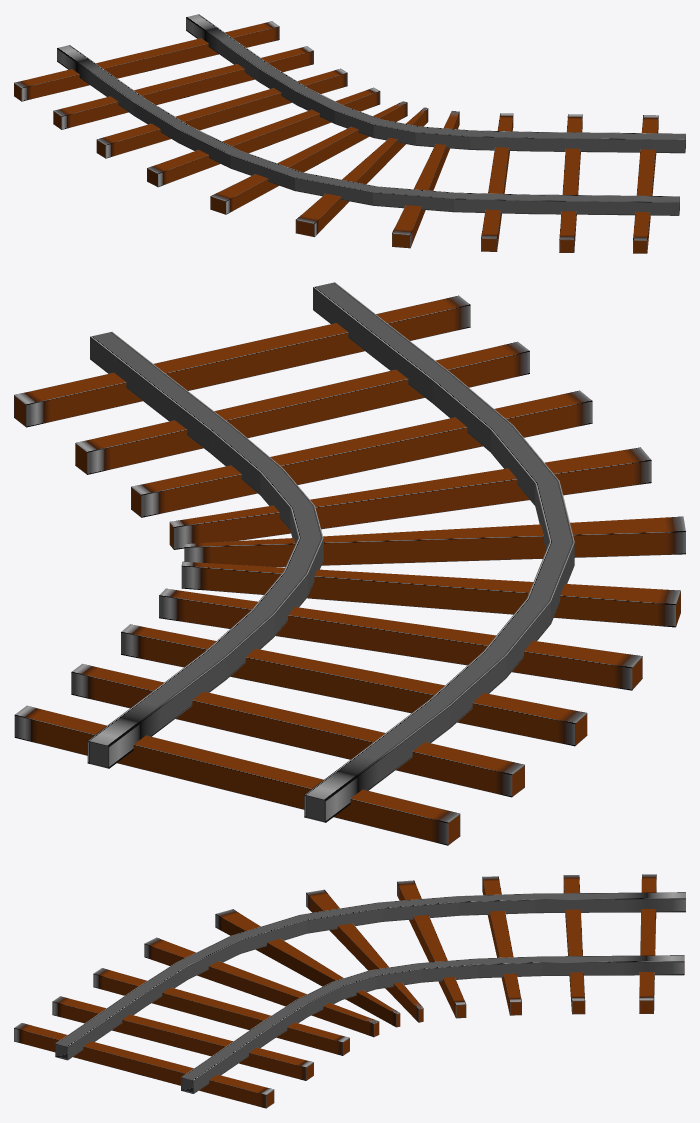
File: traintrack-bend.fbx
3 renders of one model, top to bottom at view 1: azimuth 30°, elevation 25°; view 2: azimuth 150°, elevation 25°; view 3: azimuth 270°, elevation 25°, orthographic. The views are drawn at different scales.
Visible parts, largest first — view 1: Cube.002; view 2: Cube.002; view 3: Cube.002.
Boxes of the visible parts, x1,y1,x2,y2 form: Cube.002: (14, 14, 685, 253); Cube.002: (14, 282, 685, 845); Cube.002: (14, 874, 685, 1108).
Size of the model in its own units: 701 by 35.15 by 902.
